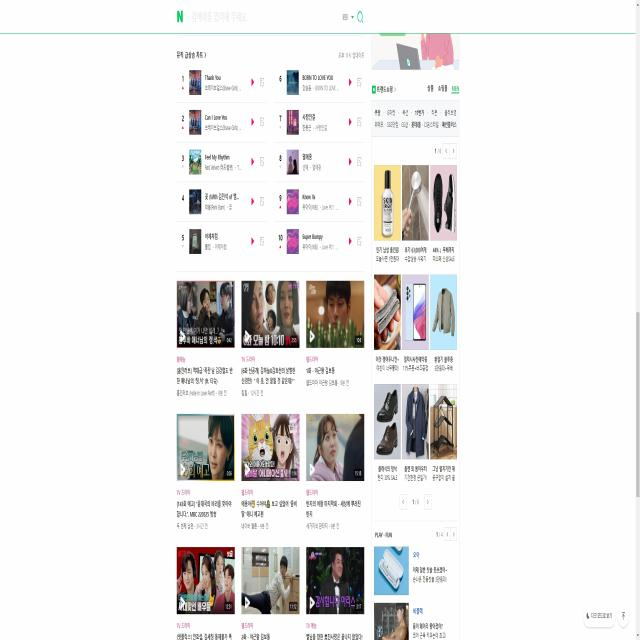search: (172, 2, 364, 29)
side-panel: (370, 30, 461, 639)
